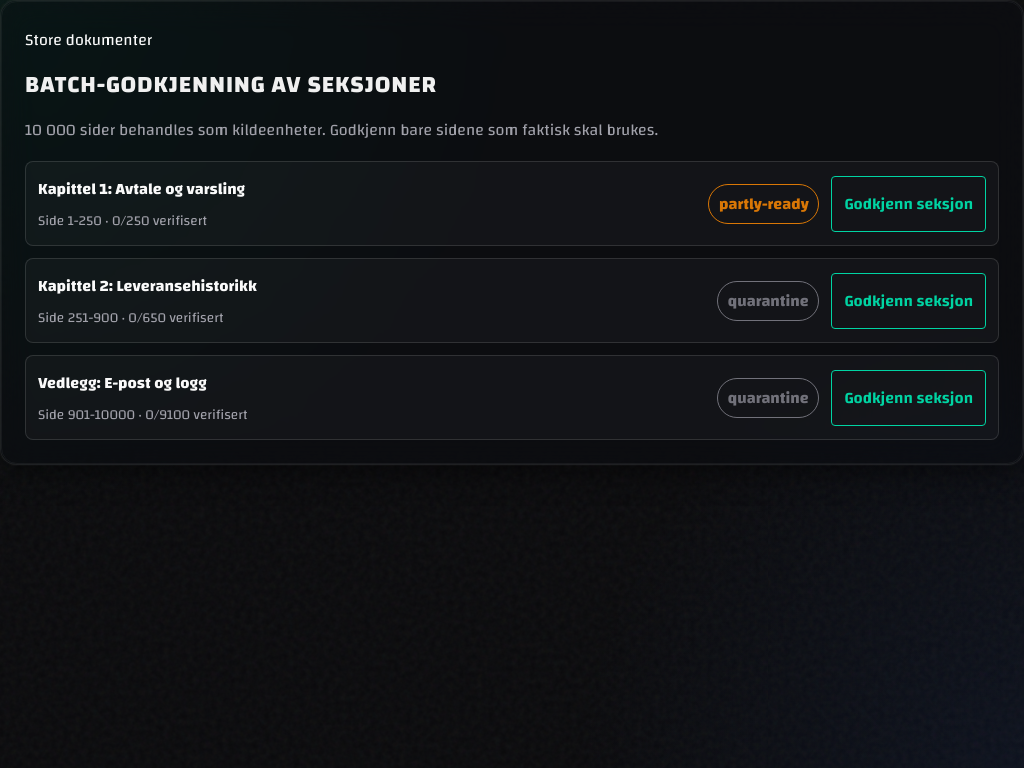
BatchApprovalPanel › approves source sections without marking the whole large document ready
Expected: the text "Side 901-10000 · 0/9100 verifisert" is shown, x1=38 y1=402 x2=248 y2=427
Click the button "Kapittel 1: Avtale og varsling Side 1-250 · 0/250 verifisert" at (142, 189), box x1=38 y1=174 x2=696 y2=233
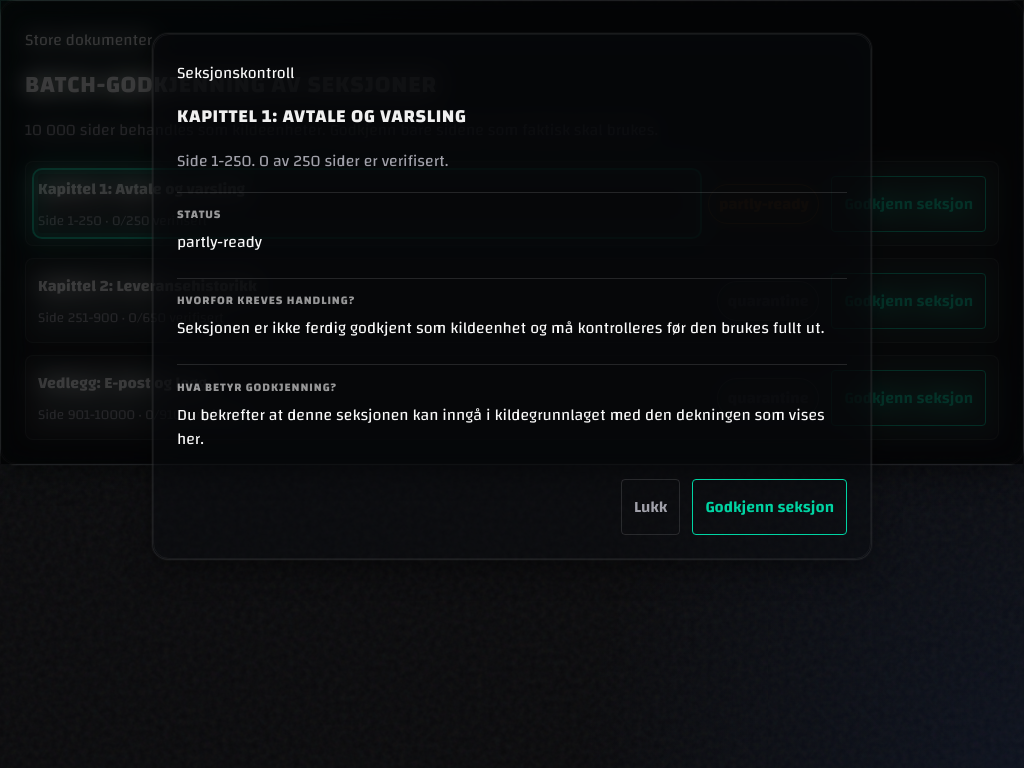
Expected: the text "Seksjonen er ikke ferdig godkjent" is shown, x1=177 y1=313 x2=824 y2=343
Click the button "Godkjenn seksjon" at (770, 507), box x1=692 y1=479 x2=847 y2=535
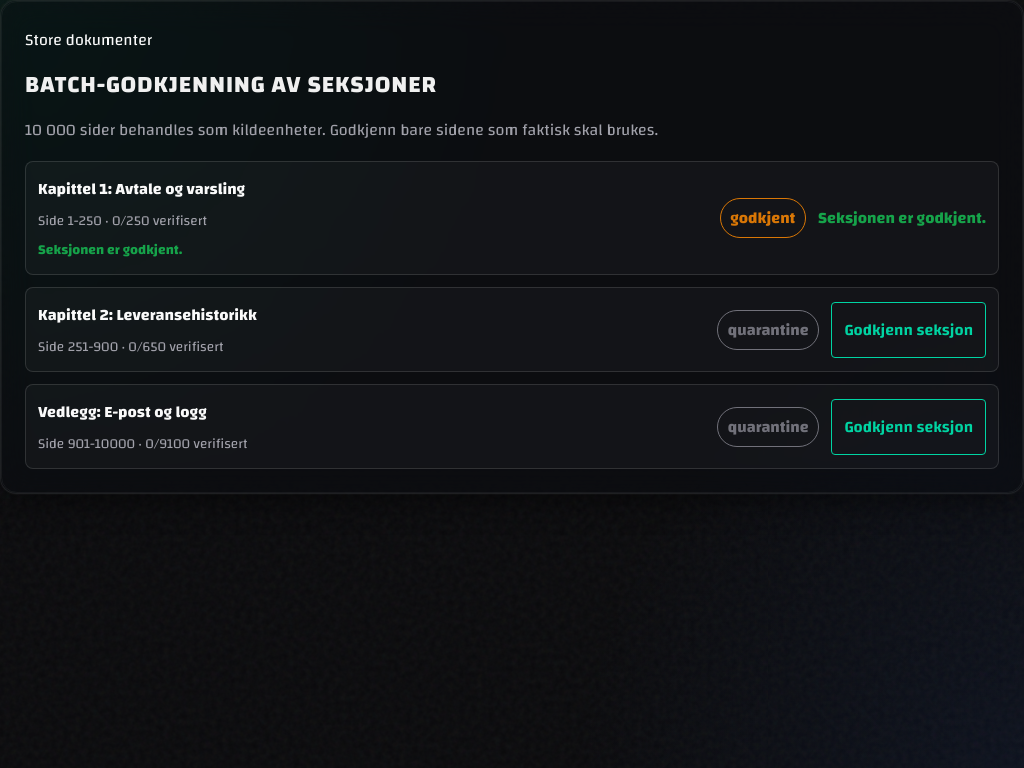
Expected: the text "godkjent" is shown, x1=720 y1=198 x2=806 y2=238
Expected: the 2nd text "Seksjonen er godkjent." is shown, x1=38 y1=237 x2=182 y2=262
Expected: the number of buttons "Godkjenn seksjon" is 2, x1=831 y1=302 x2=986 y2=358; x1=831 y1=398 x2=986 y2=454
